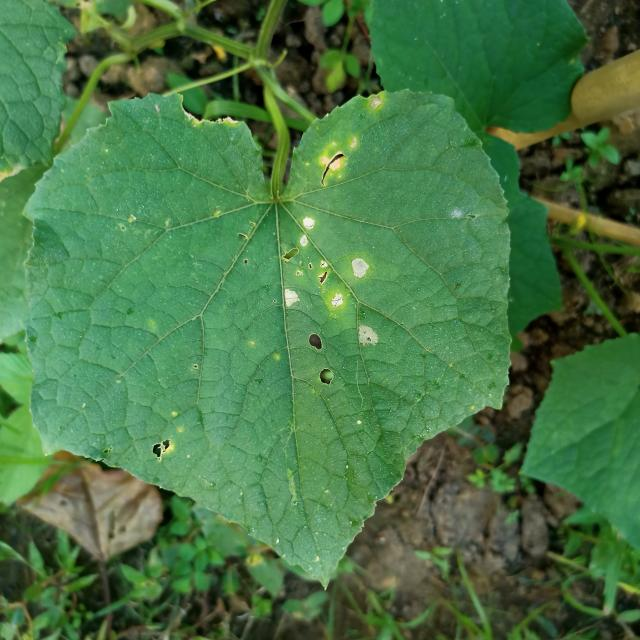disease_cucumber: (270, 204, 396, 359)
